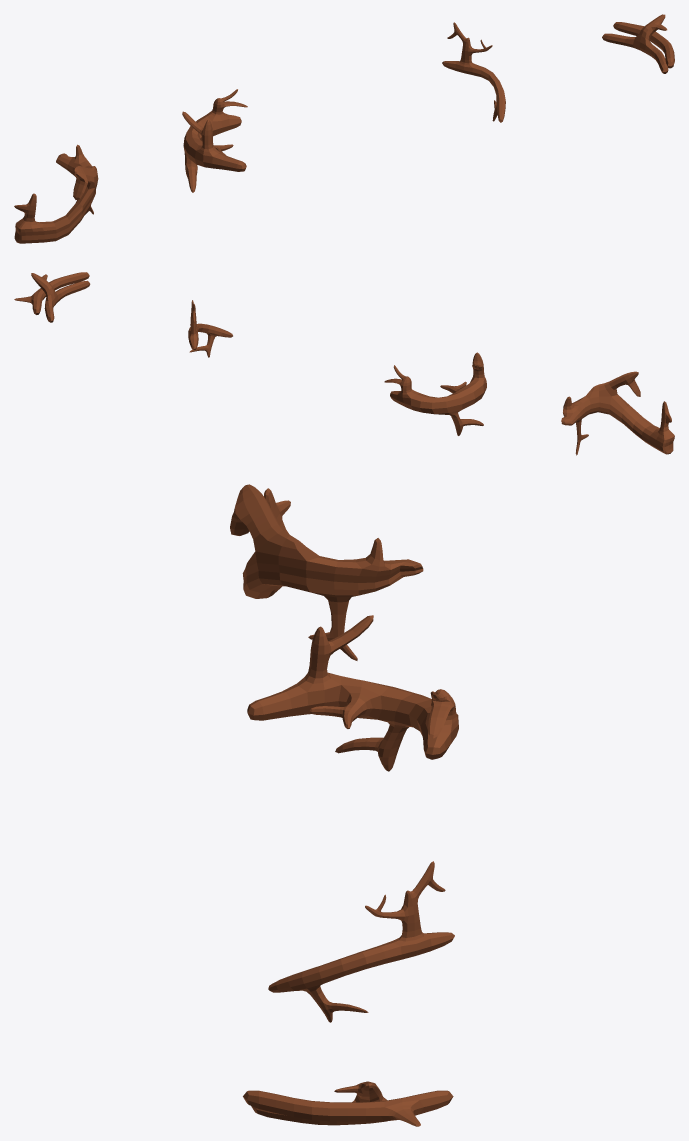
Rendered from BigBranch 1.fbx.
3 views of the same model, one above another, from view 1: azimuth 30°, elevation 25°; view 2: azimuth 150°, elevation 25°; view 3: azimuth 270°, elevation 25° (orthographic). The views are drawn at different scales.
Visible parts, largest first — view 1: Cube.015, Cube.016, Cube.017, Cube.005, Cube.004; view 2: Cube.015, Cube.016, Cube.005, Cube.017, Cube.004; view 3: Cube.016, Cube.015, Cube.017, Cube.004, Cube.005.
Part boxes in pixels (<box>): Cube.015: <box>14,144,98,243</box>; Cube.016: <box>182,89,247,192</box>; Cube.017: <box>442,22,505,122</box>; Cube.005: <box>602,14,668,73</box>; Cube.004: <box>613,22,674,68</box>; Cube.015: <box>561,371,674,455</box>; Cube.016: <box>384,352,486,435</box>; Cube.005: <box>31,273,90,322</box>; Cube.017: <box>188,300,232,357</box>; Cube.004: <box>14,272,89,314</box>; Cube.016: <box>247,615,458,771</box>; Cube.015: <box>230,484,423,660</box>; Cube.017: <box>268,861,454,1022</box>; Cube.004: <box>243,1090,453,1126</box>; Cube.005: <box>251,1081,386,1125</box>.
Bounding box in the file's own units: 66690 × 8053 × 10587.
